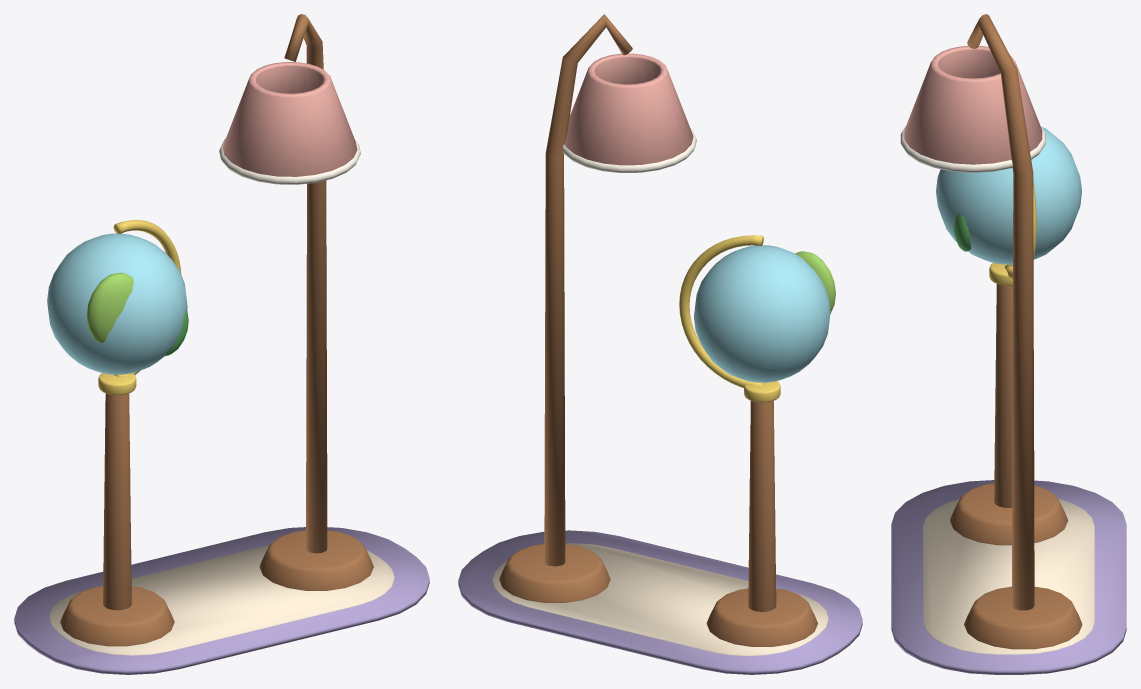
The model's file is library-floor-globe-lamp.glb.
3 views of the same model, side by side, from view 1: azimuth 30°, elevation 25°; view 2: azimuth 150°, elevation 25°; view 3: azimuth 270°, elevation 25° (orthographic). The views are drawn at different scales.
Parts seen in each view (by area): view 1: LibGlobeAndLamp_WoodStands, LibGlobeAndLamp_LavenderMatBorder, LibGlobeAndLamp_CreamMat, LibGlobeAndLamp_SkyBlueOceans, LibGlobeAndLamp_PeachLampShade, LibGlobeAndLamp_GrassGreenLand, LibGlobeAndLamp_ButterMeridian, LibGlobeAndLamp_CreamTrim; view 2: LibGlobeAndLamp_WoodStands, LibGlobeAndLamp_LavenderMatBorder, LibGlobeAndLamp_SkyBlueOceans, LibGlobeAndLamp_CreamMat, LibGlobeAndLamp_PeachLampShade, LibGlobeAndLamp_ButterMeridian, LibGlobeAndLamp_CreamTrim, LibGlobeAndLamp_GrassGreenLand; view 3: LibGlobeAndLamp_WoodStands, LibGlobeAndLamp_LavenderMatBorder, LibGlobeAndLamp_CreamMat, LibGlobeAndLamp_PeachLampShade, LibGlobeAndLamp_SkyBlueOceans, LibGlobeAndLamp_CreamTrim, LibGlobeAndLamp_ButterMeridian, LibGlobeAndLamp_LeafGreenLand.
Part boxes in pixels (box(x1,y1,x2,y2)): LibGlobeAndLamp_WoodStands: box(60, 14, 373, 646); LibGlobeAndLamp_LavenderMatBorder: box(14, 527, 429, 674); LibGlobeAndLamp_CreamMat: box(49, 545, 394, 655); LibGlobeAndLamp_SkyBlueOceans: box(47, 233, 187, 374); LibGlobeAndLamp_PeachLampShade: box(222, 62, 357, 176); LibGlobeAndLamp_GrassGreenLand: box(86, 272, 133, 342); LibGlobeAndLamp_ButterMeridian: box(98, 220, 181, 394); LibGlobeAndLamp_CreamTrim: box(219, 138, 360, 184); LibGlobeAndLamp_WoodStands: box(499, 14, 817, 646); LibGlobeAndLamp_LavenderMatBorder: box(458, 530, 862, 674); LibGlobeAndLamp_SkyBlueOceans: box(694, 245, 830, 382); LibGlobeAndLamp_CreamMat: box(492, 543, 828, 655); LibGlobeAndLamp_PeachLampShade: box(564, 53, 693, 165); LibGlobeAndLamp_ButterMeridian: box(679, 235, 780, 402); LibGlobeAndLamp_CreamTrim: box(561, 128, 696, 172); LibGlobeAndLamp_GrassGreenLand: box(795, 251, 835, 313); LibGlobeAndLamp_WoodStands: box(950, 14, 1082, 649); LibGlobeAndLamp_LavenderMatBorder: box(891, 480, 1126, 674); LibGlobeAndLamp_CreamMat: box(923, 498, 1094, 654); LibGlobeAndLamp_PeachLampShade: box(904, 46, 1042, 164); LibGlobeAndLamp_SkyBlueOceans: box(936, 126, 1081, 264); LibGlobeAndLamp_CreamTrim: box(900, 126, 1045, 172); LibGlobeAndLamp_ButterMeridian: box(989, 181, 1036, 285); LibGlobeAndLamp_LeafGreenLand: box(954, 214, 970, 251).
Size of the model in its own units: 1.26 by 1.86 by 0.66.
